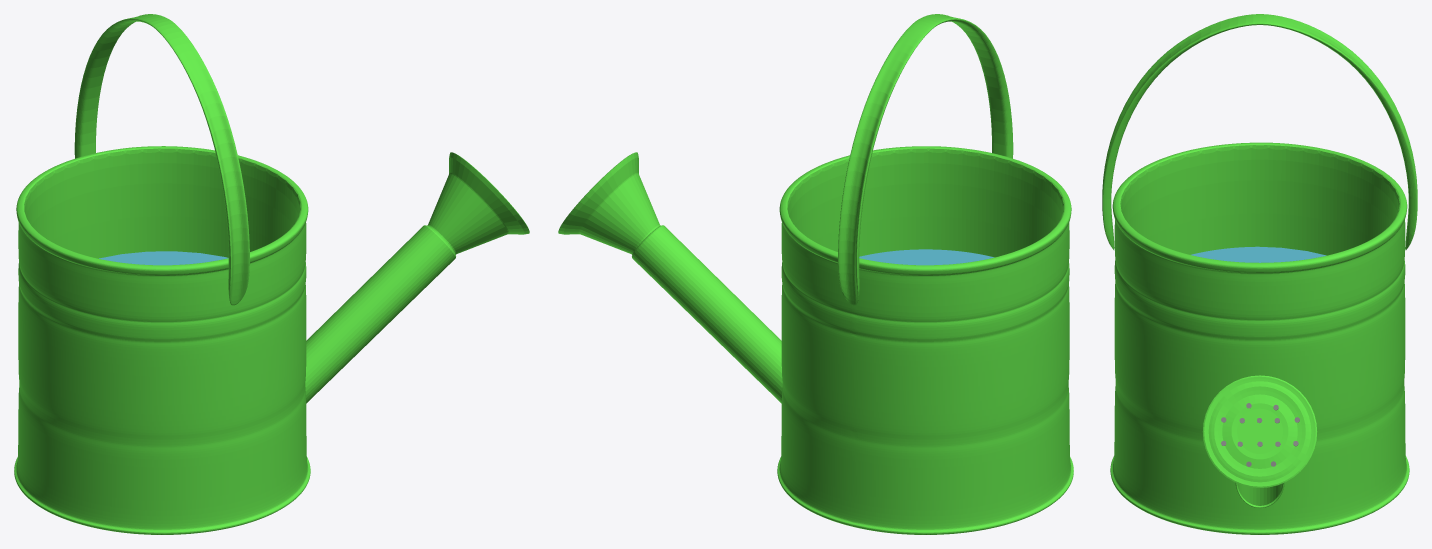
The model's file is wateringCANApa.fbx.
3 renders of one model, left to right at view 1: azimuth 30°, elevation 25°; view 2: azimuth 150°, elevation 25°; view 3: azimuth 270°, elevation 25°, orthographic.
Parts seen in each view (by area): view 1: uploads_files_3421452_watering_can_high_poly, Circle; view 2: uploads_files_3421452_watering_can_high_poly, Circle; view 3: uploads_files_3421452_watering_can_high_poly, Circle.
Part boxes in pixels (x1,y1,x2,y2): uploads_files_3421452_watering_can_high_poly: (14,14,529,534); Circle: (99,251,228,265); uploads_files_3421452_watering_can_high_poly: (558,14,1073,534); Circle: (859,249,994,265); uploads_files_3421452_watering_can_high_poly: (1102,14,1417,534); Circle: (1191,246,1326,262).
Size of the model in its own units: 617 by 550 by 345.
